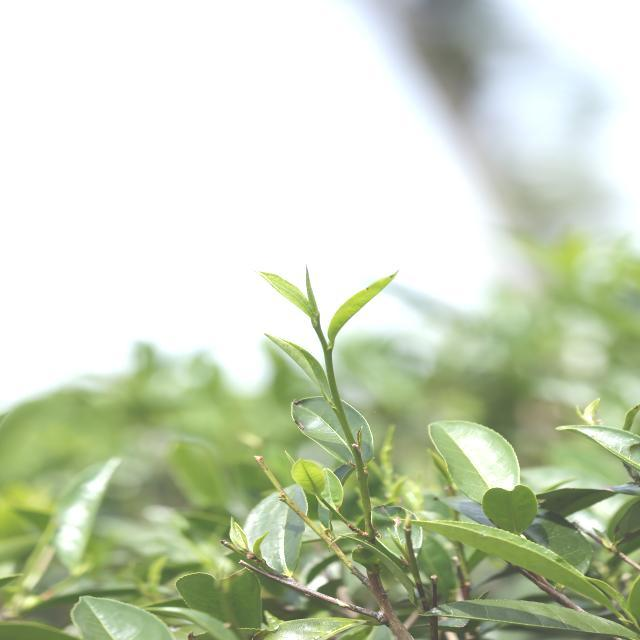Stem: (324, 348, 332, 358)
